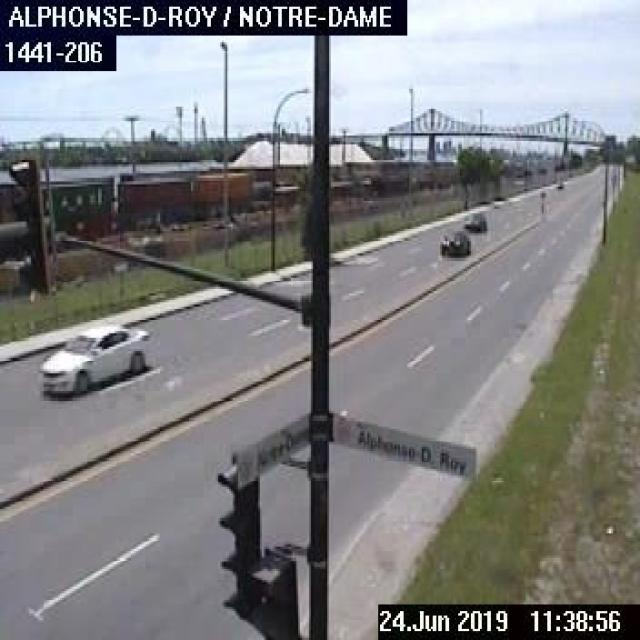vehicle: (33, 320, 148, 393), (438, 228, 470, 255), (459, 208, 486, 232)
